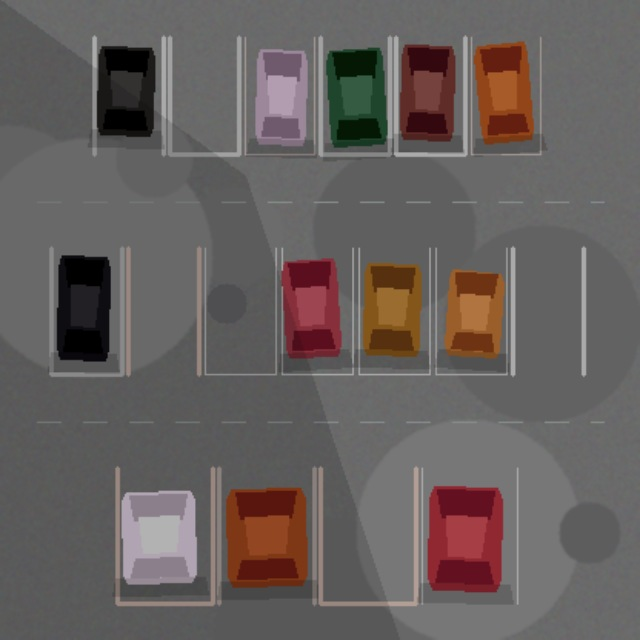space-empty: (320, 468, 415, 603), (512, 248, 583, 374), (128, 248, 198, 374), (205, 248, 275, 374), (169, 37, 238, 154)
space-occupied: (218, 468, 314, 603), (117, 468, 212, 603), (422, 468, 517, 603), (51, 248, 122, 374), (358, 248, 429, 374), (435, 248, 506, 374), (282, 248, 352, 374), (395, 37, 465, 154), (94, 37, 163, 154), (245, 37, 314, 154), (320, 37, 389, 154), (471, 37, 540, 154)
